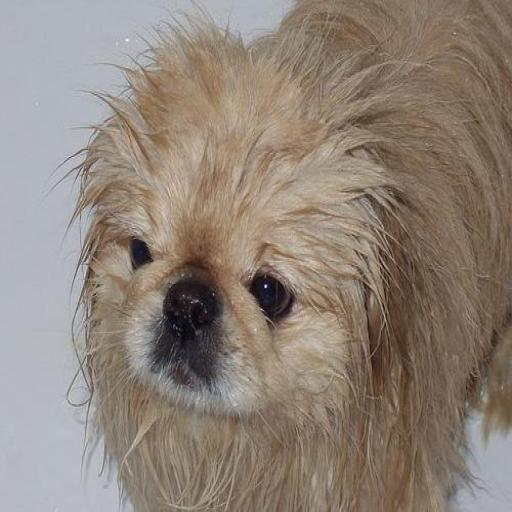dog_face: (70, 66, 362, 412)
